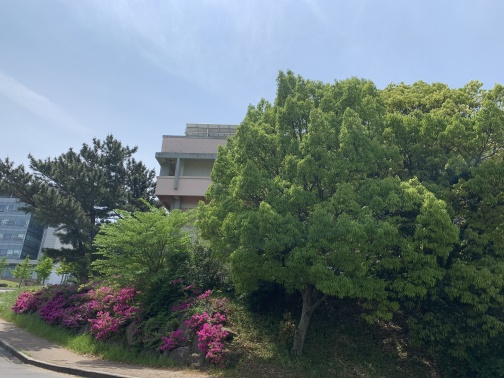College Of Education: (144, 102, 245, 237)
